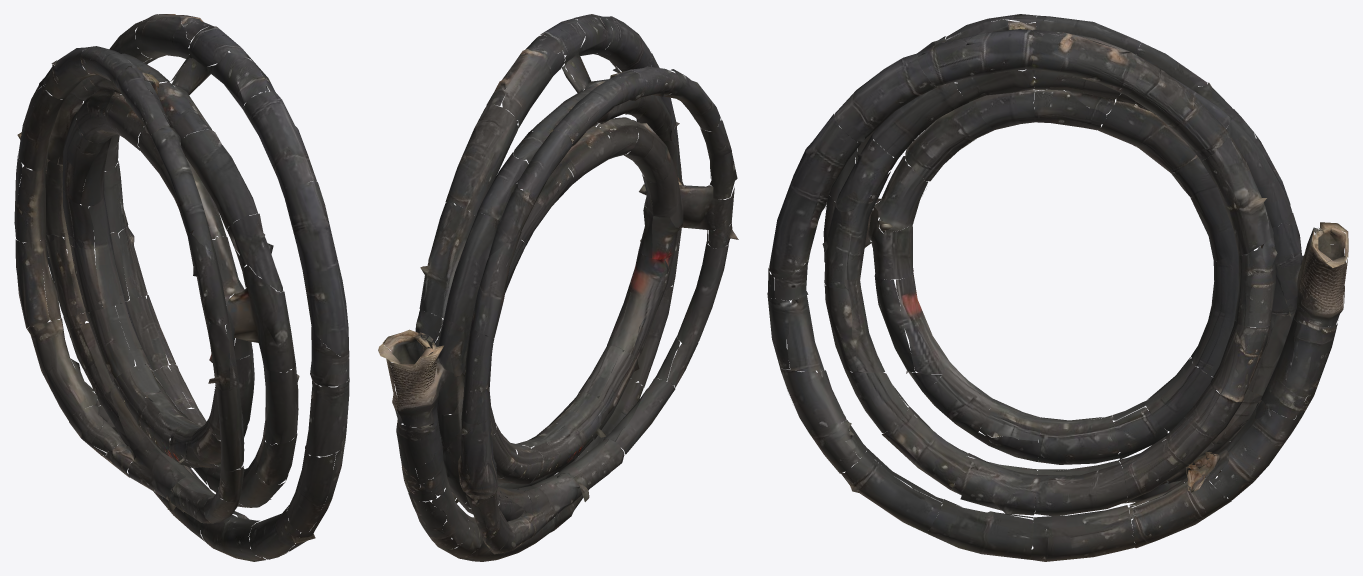
The model's file is rubber_hose.glb.
3 renders of one model, left to right at view 1: azimuth 30°, elevation 25°; view 2: azimuth 150°, elevation 25°; view 3: azimuth 270°, elevation 25°, orthographic. The views are drawn at different scales.
Visible parts, largest first — view 1: tripo_node_c574a913-5bd1-4d50-9bfc-cfe9298151b6; view 2: tripo_node_c574a913-5bd1-4d50-9bfc-cfe9298151b6; view 3: tripo_node_c574a913-5bd1-4d50-9bfc-cfe9298151b6.
Boxes of the visible parts, x1,y1,x2,y2 form: tripo_node_c574a913-5bd1-4d50-9bfc-cfe9298151b6: (14, 14, 349, 561); tripo_node_c574a913-5bd1-4d50-9bfc-cfe9298151b6: (378, 14, 738, 561); tripo_node_c574a913-5bd1-4d50-9bfc-cfe9298151b6: (767, 14, 1348, 561).
Size of the model in its own units: 0.2867 by 0.9923 by 0.9999.
1 material, 1 textured.
